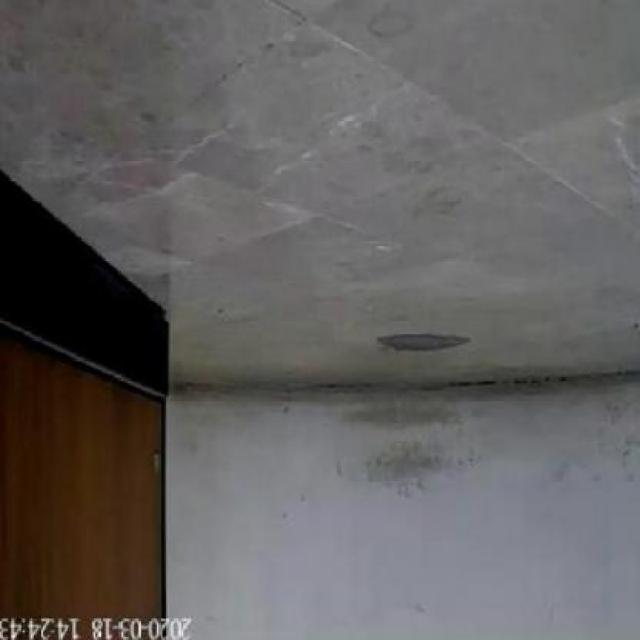spillage: (376, 330, 471, 354)
